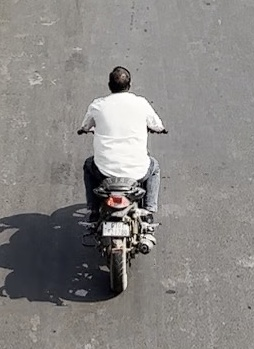BikeWithRider: (71, 61, 172, 297)
NoHelmet: (102, 62, 136, 97)
